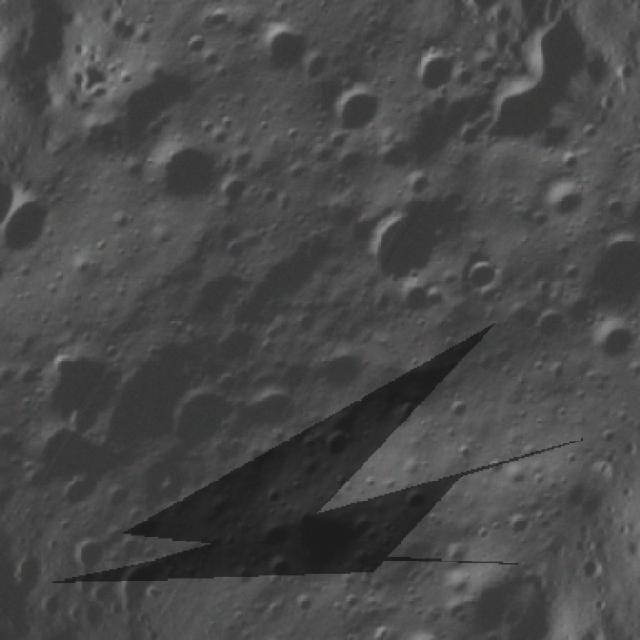crater: (71, 315, 227, 482), (15, 326, 132, 445), (96, 36, 212, 156), (457, 61, 575, 176), (344, 192, 453, 302), (129, 117, 233, 225), (155, 373, 251, 472), (276, 479, 373, 573), (172, 244, 263, 339), (16, 415, 107, 508), (569, 219, 640, 323), (313, 71, 392, 151), (248, 9, 326, 88), (231, 370, 309, 448), (0, 189, 68, 276), (391, 34, 466, 109), (205, 158, 269, 228), (532, 166, 596, 232), (452, 246, 513, 311), (311, 334, 372, 398), (291, 36, 351, 98), (589, 309, 640, 377), (388, 272, 442, 331), (488, 500, 540, 551), (310, 420, 358, 471), (93, 472, 141, 522), (524, 302, 570, 350), (250, 512, 296, 558), (394, 479, 432, 521), (397, 624, 459, 640)
